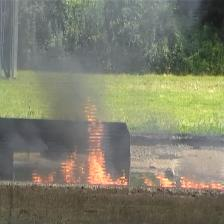fire: (85, 97, 129, 186), (142, 171, 224, 188), (62, 152, 82, 183), (34, 170, 56, 182)
